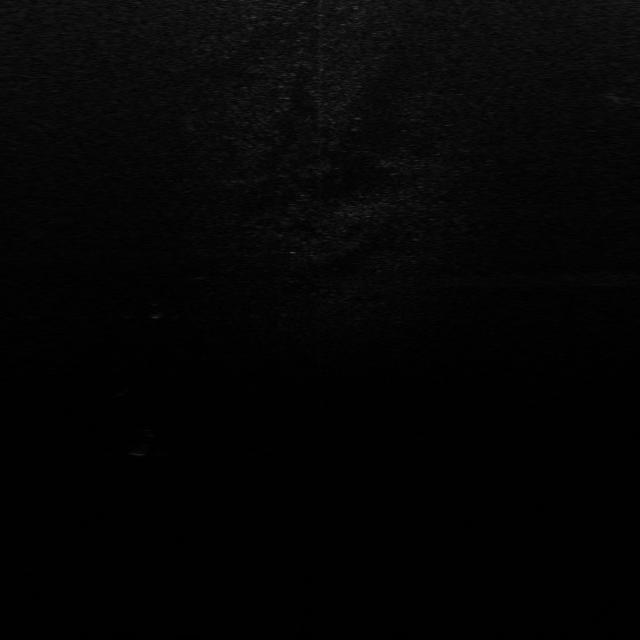ball: (123, 369, 153, 388)
circle cage: (142, 300, 168, 320)
tyre: (127, 424, 157, 459)
